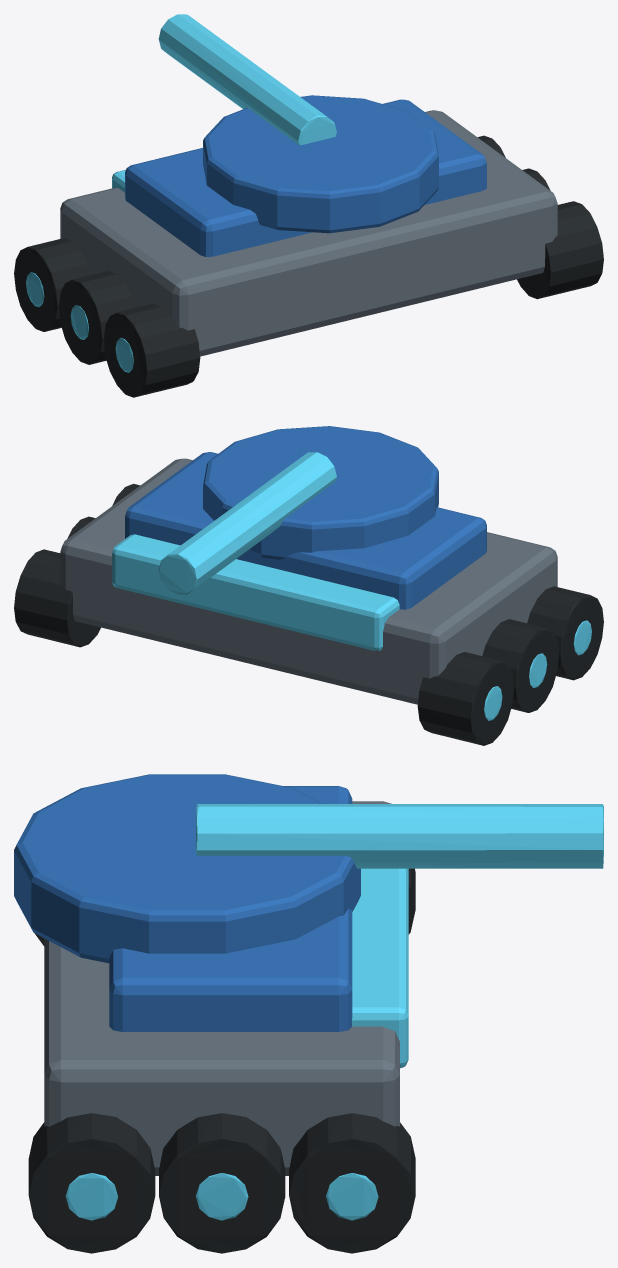
File: SM_Alliance_AL_OracleArtillery_LOD1.fbx
3 views of the same model, one above another, from view 1: azimuth 30°, elevation 25°; view 2: azimuth 150°, elevation 25°; view 3: azimuth 270°, elevation 25° (orthographic). The views are drawn at different scales.
Parts seen in each view (by area): view 1: LOD01_SM_Alliance_AL_OracleArtillery; view 2: LOD01_SM_Alliance_AL_OracleArtillery; view 3: LOD01_SM_Alliance_AL_OracleArtillery.
Part boxes in pixels (<box>): LOD01_SM_Alliance_AL_OracleArtillery: <box>14,14,603,397</box>; LOD01_SM_Alliance_AL_OracleArtillery: <box>14,426,603,745</box>; LOD01_SM_Alliance_AL_OracleArtillery: <box>14,774,603,1253</box>.
Size of the model in its own units: 551 by 421 by 225.
